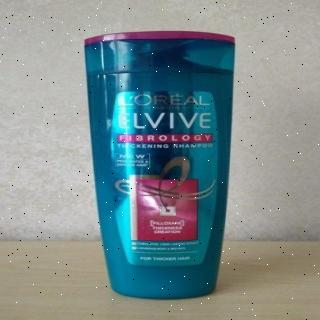Plastic-bottle: (78, 32, 239, 300)
